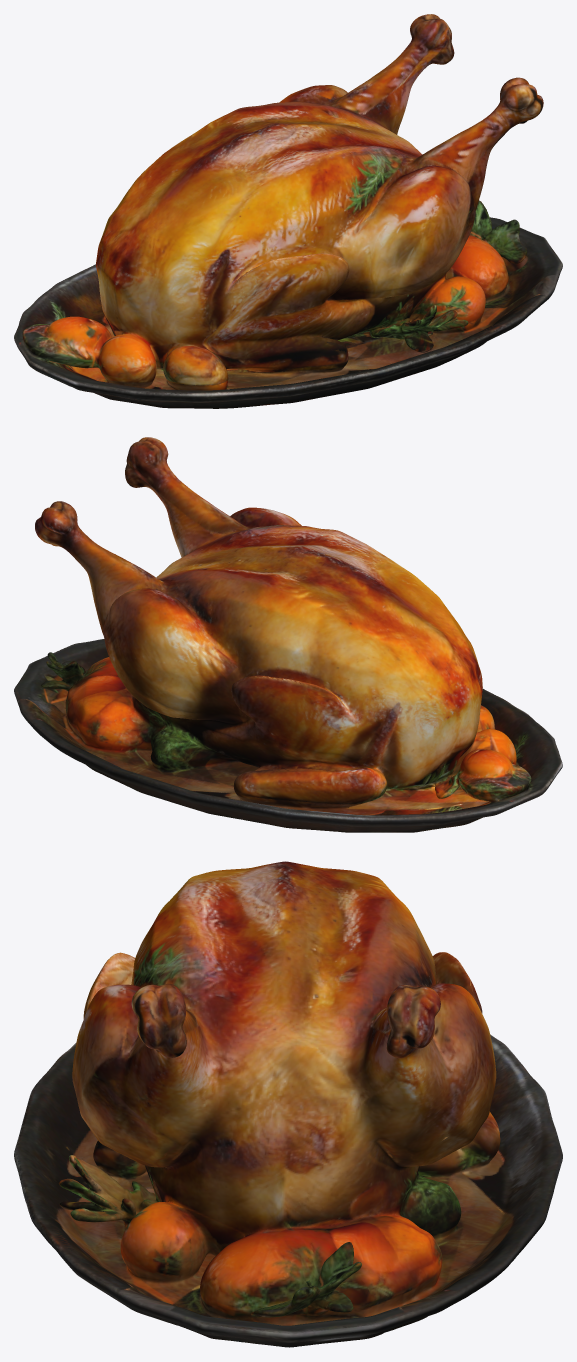
File: roasted chicken .glb
3 renders of one model, top to bottom at view 1: azimuth 30°, elevation 25°; view 2: azimuth 150°, elevation 25°; view 3: azimuth 270°, elevation 25°, orthographic. The views are drawn at different scales.
Visible parts, largest first — view 1: Mesh1_Mesh1.067; view 2: Mesh1_Mesh1.067; view 3: Mesh1_Mesh1.067.
Boxes of the visible parts, x1,y1,x2,y2 form: Mesh1_Mesh1.067: [14, 14, 562, 408]; Mesh1_Mesh1.067: [14, 437, 562, 832]; Mesh1_Mesh1.067: [14, 861, 562, 1347].
Size of the model in its own units: 2 by 0.8791 by 1.29.
1 material, 1 textured.
